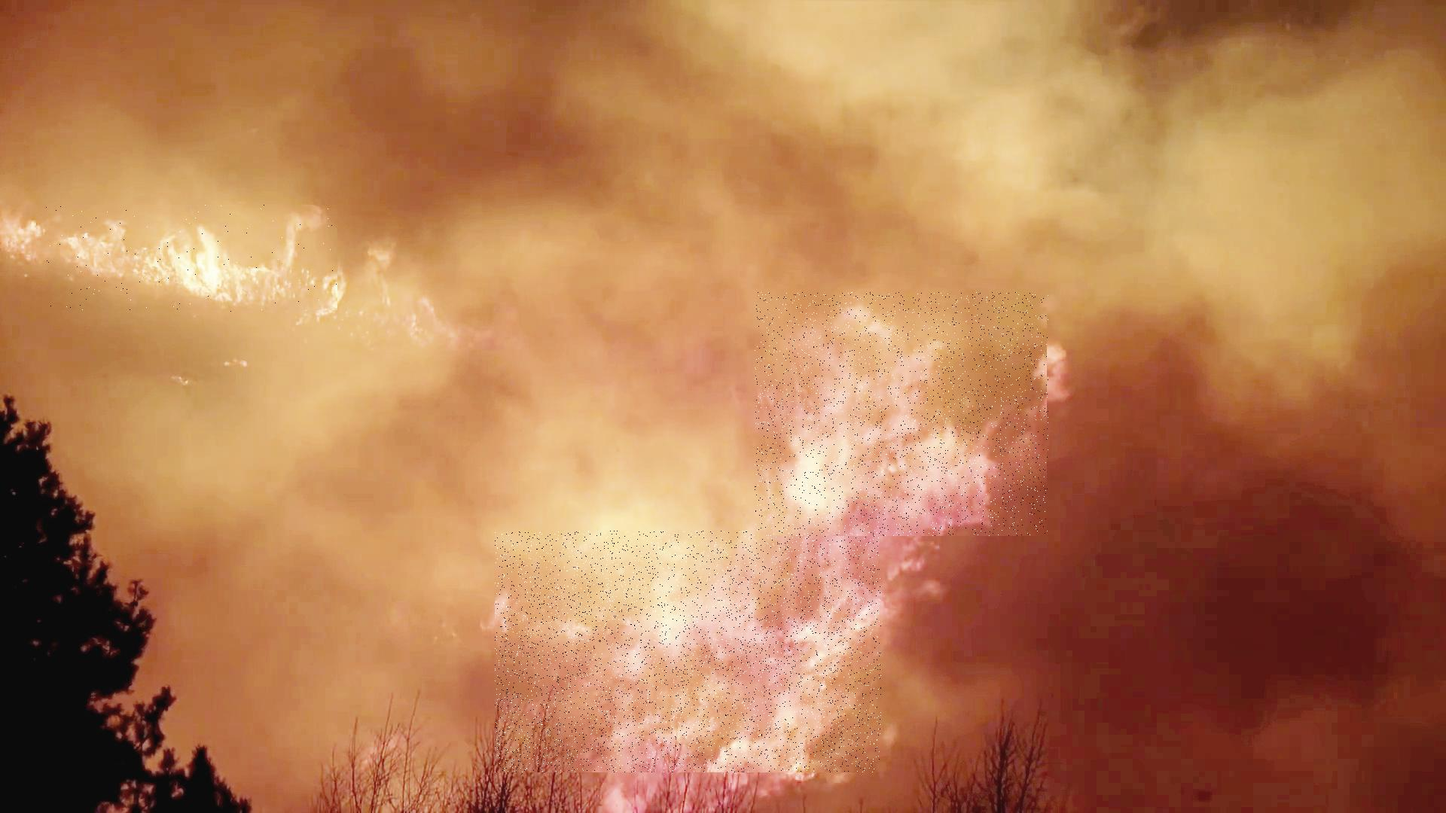fire: (496, 531, 882, 773), (755, 292, 1049, 536), (46, 205, 337, 312)
